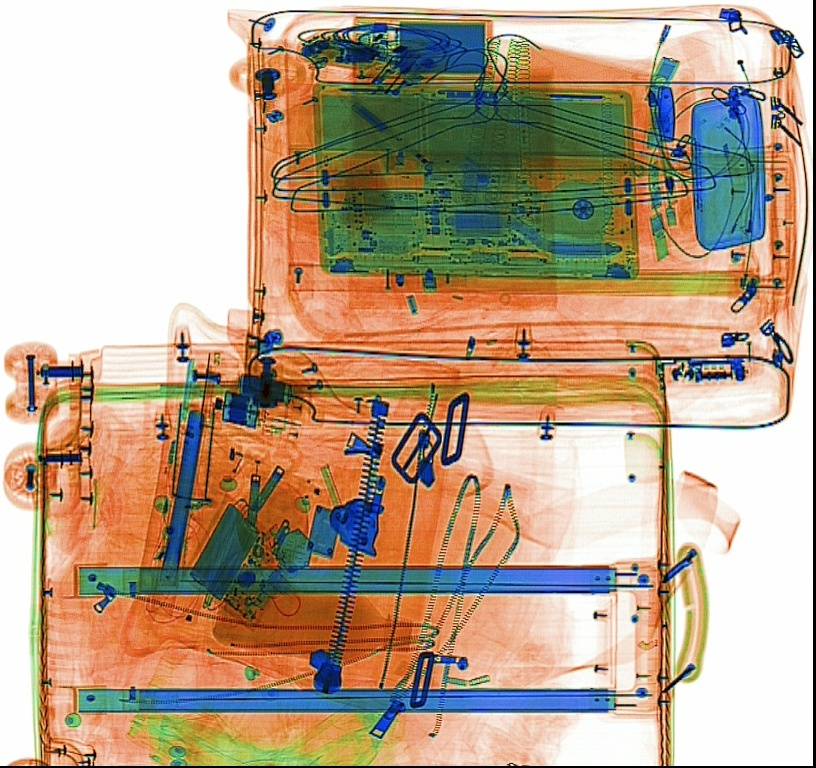powerbank: (178, 485, 293, 633)
